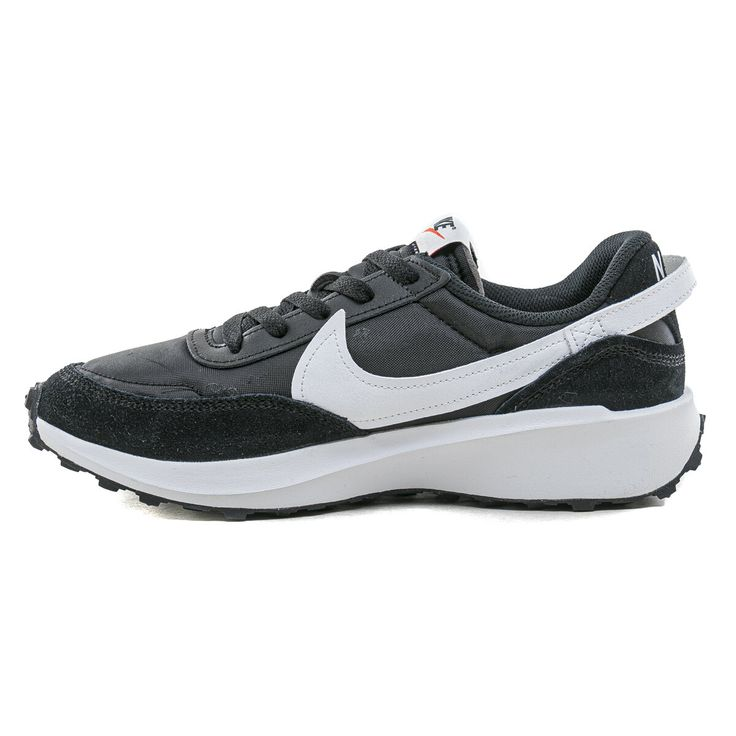gamuza: (35, 230, 713, 464)
